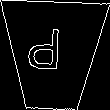P_S: (35, 30, 72, 81)
